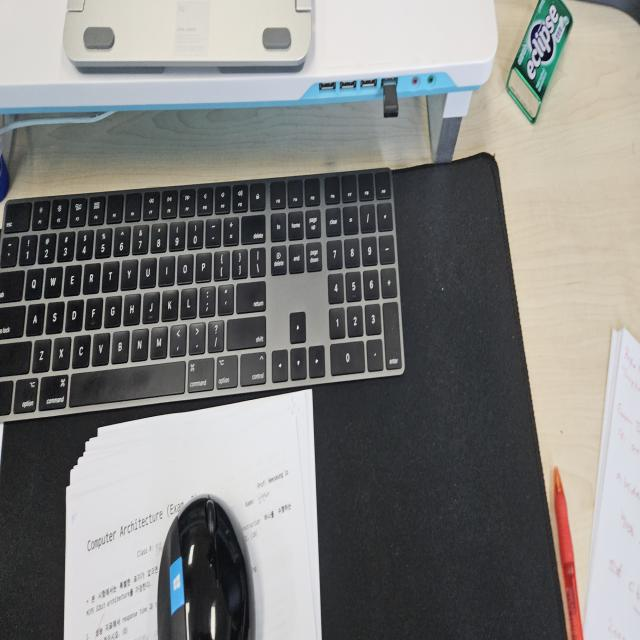Keyboard: (0, 166, 406, 422)
Mouse: (155, 490, 252, 637)
